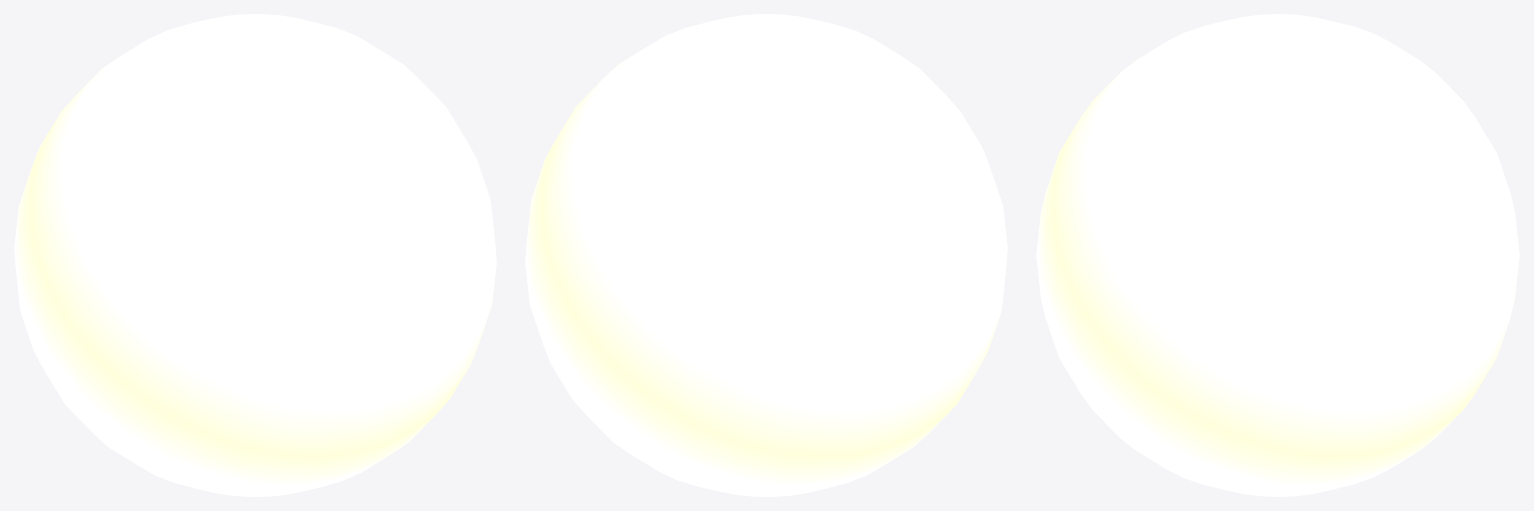
File: sun.glb
3 renders of one model, left to right at view 1: azimuth 30°, elevation 25°; view 2: azimuth 150°, elevation 25°; view 3: azimuth 270°, elevation 25°, orthographic.
Visible parts, largest first — view 1: sun_glow; view 2: sun_glow; view 3: sun_glow.
Part boxes in pixels (left/top/right/bottom): sun_glow: left=14, top=14, right=496, bottom=496; sun_glow: left=525, top=14, right=1007, bottom=496; sun_glow: left=1036, top=14, right=1519, bottom=496.
Size of the model in its own units: 2.12 by 2.12 by 2.12.
